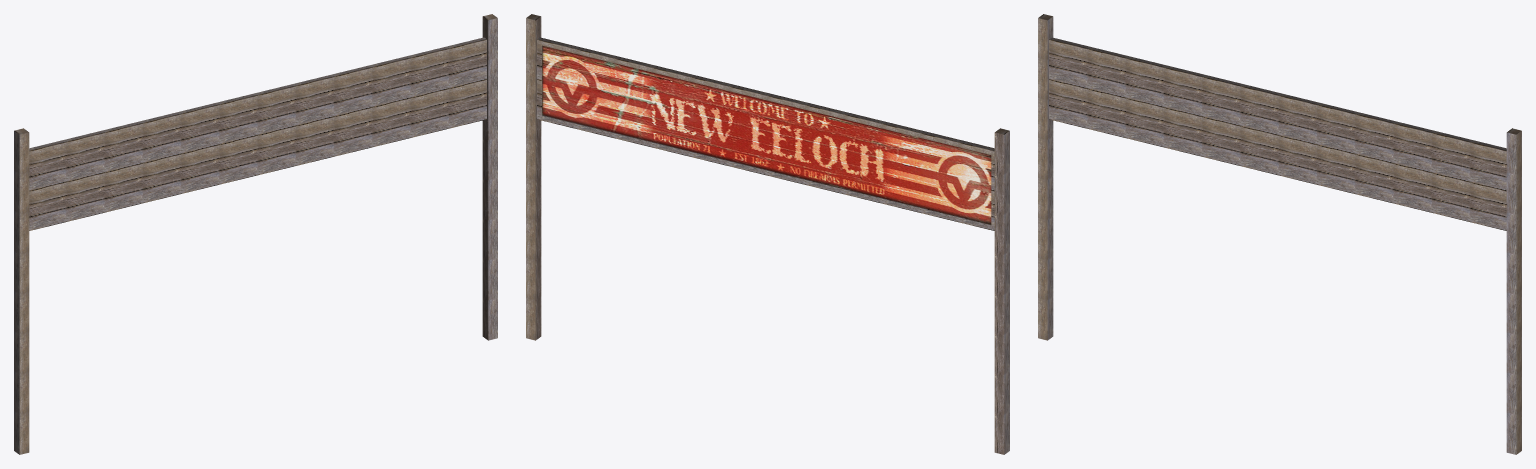
File: westsign1.fbx
3 views of the same model, side by side, from view 1: azimuth 30°, elevation 25°; view 2: azimuth 150°, elevation 25°; view 3: azimuth 330°, elevation 25° (orthographic).
Parts seen in each view (by area): view 1: westsign1; view 2: westsign1; view 3: westsign1.
Part boxes in pixels (box(x1,y1,x2,y2)): westsign1: box(14, 14, 497, 454); westsign1: box(526, 14, 1009, 454); westsign1: box(1038, 14, 1521, 454).
Size of the model in its own units: 80000 by 51200 by 1600.
